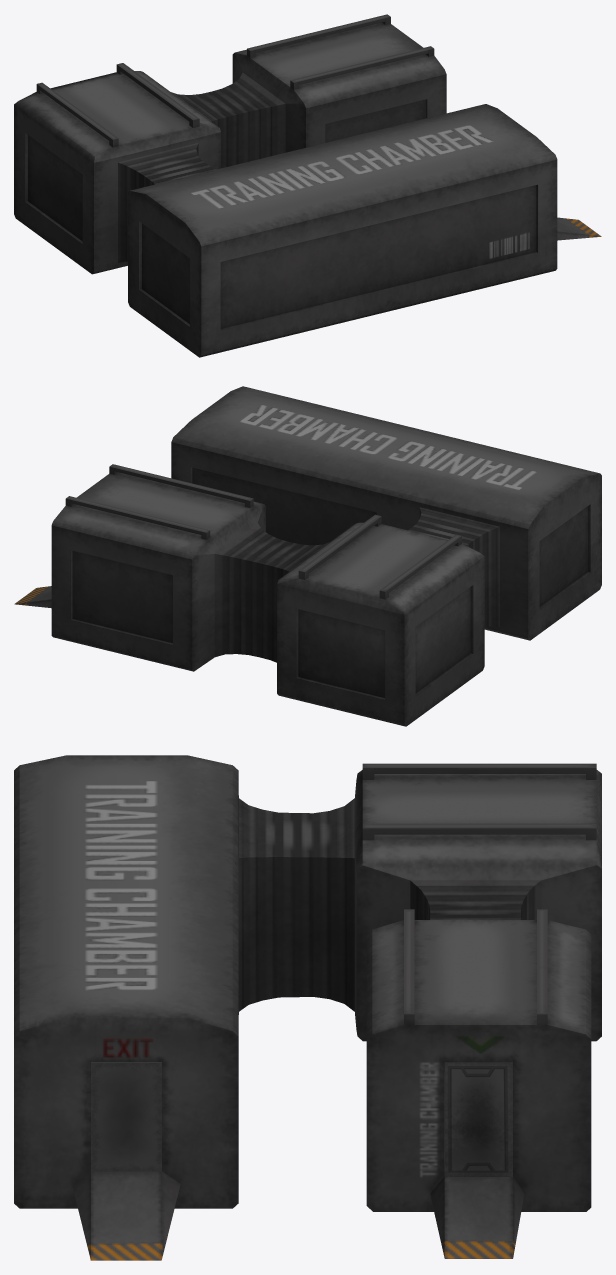
The model's file is BuildingwithDoors.fbx.
3 renders of one model, top to bottom at view 1: azimuth 30°, elevation 25°; view 2: azimuth 150°, elevation 25°; view 3: azimuth 270°, elevation 25°, orthographic. The views are drawn at different scales.
Visible parts, largest first — view 1: Building; view 2: Building; view 3: Building, CrouchBarrier.
Part boxes in pixels (box(x1,y1,x2,y2)): Building: box(14, 14, 601, 357); Building: box(14, 386, 601, 726); Building: box(14, 755, 601, 1260); CrouchBarrier: box(91, 1062, 512, 1176).
Size of the model in its own units: 528 by 153 by 412.
